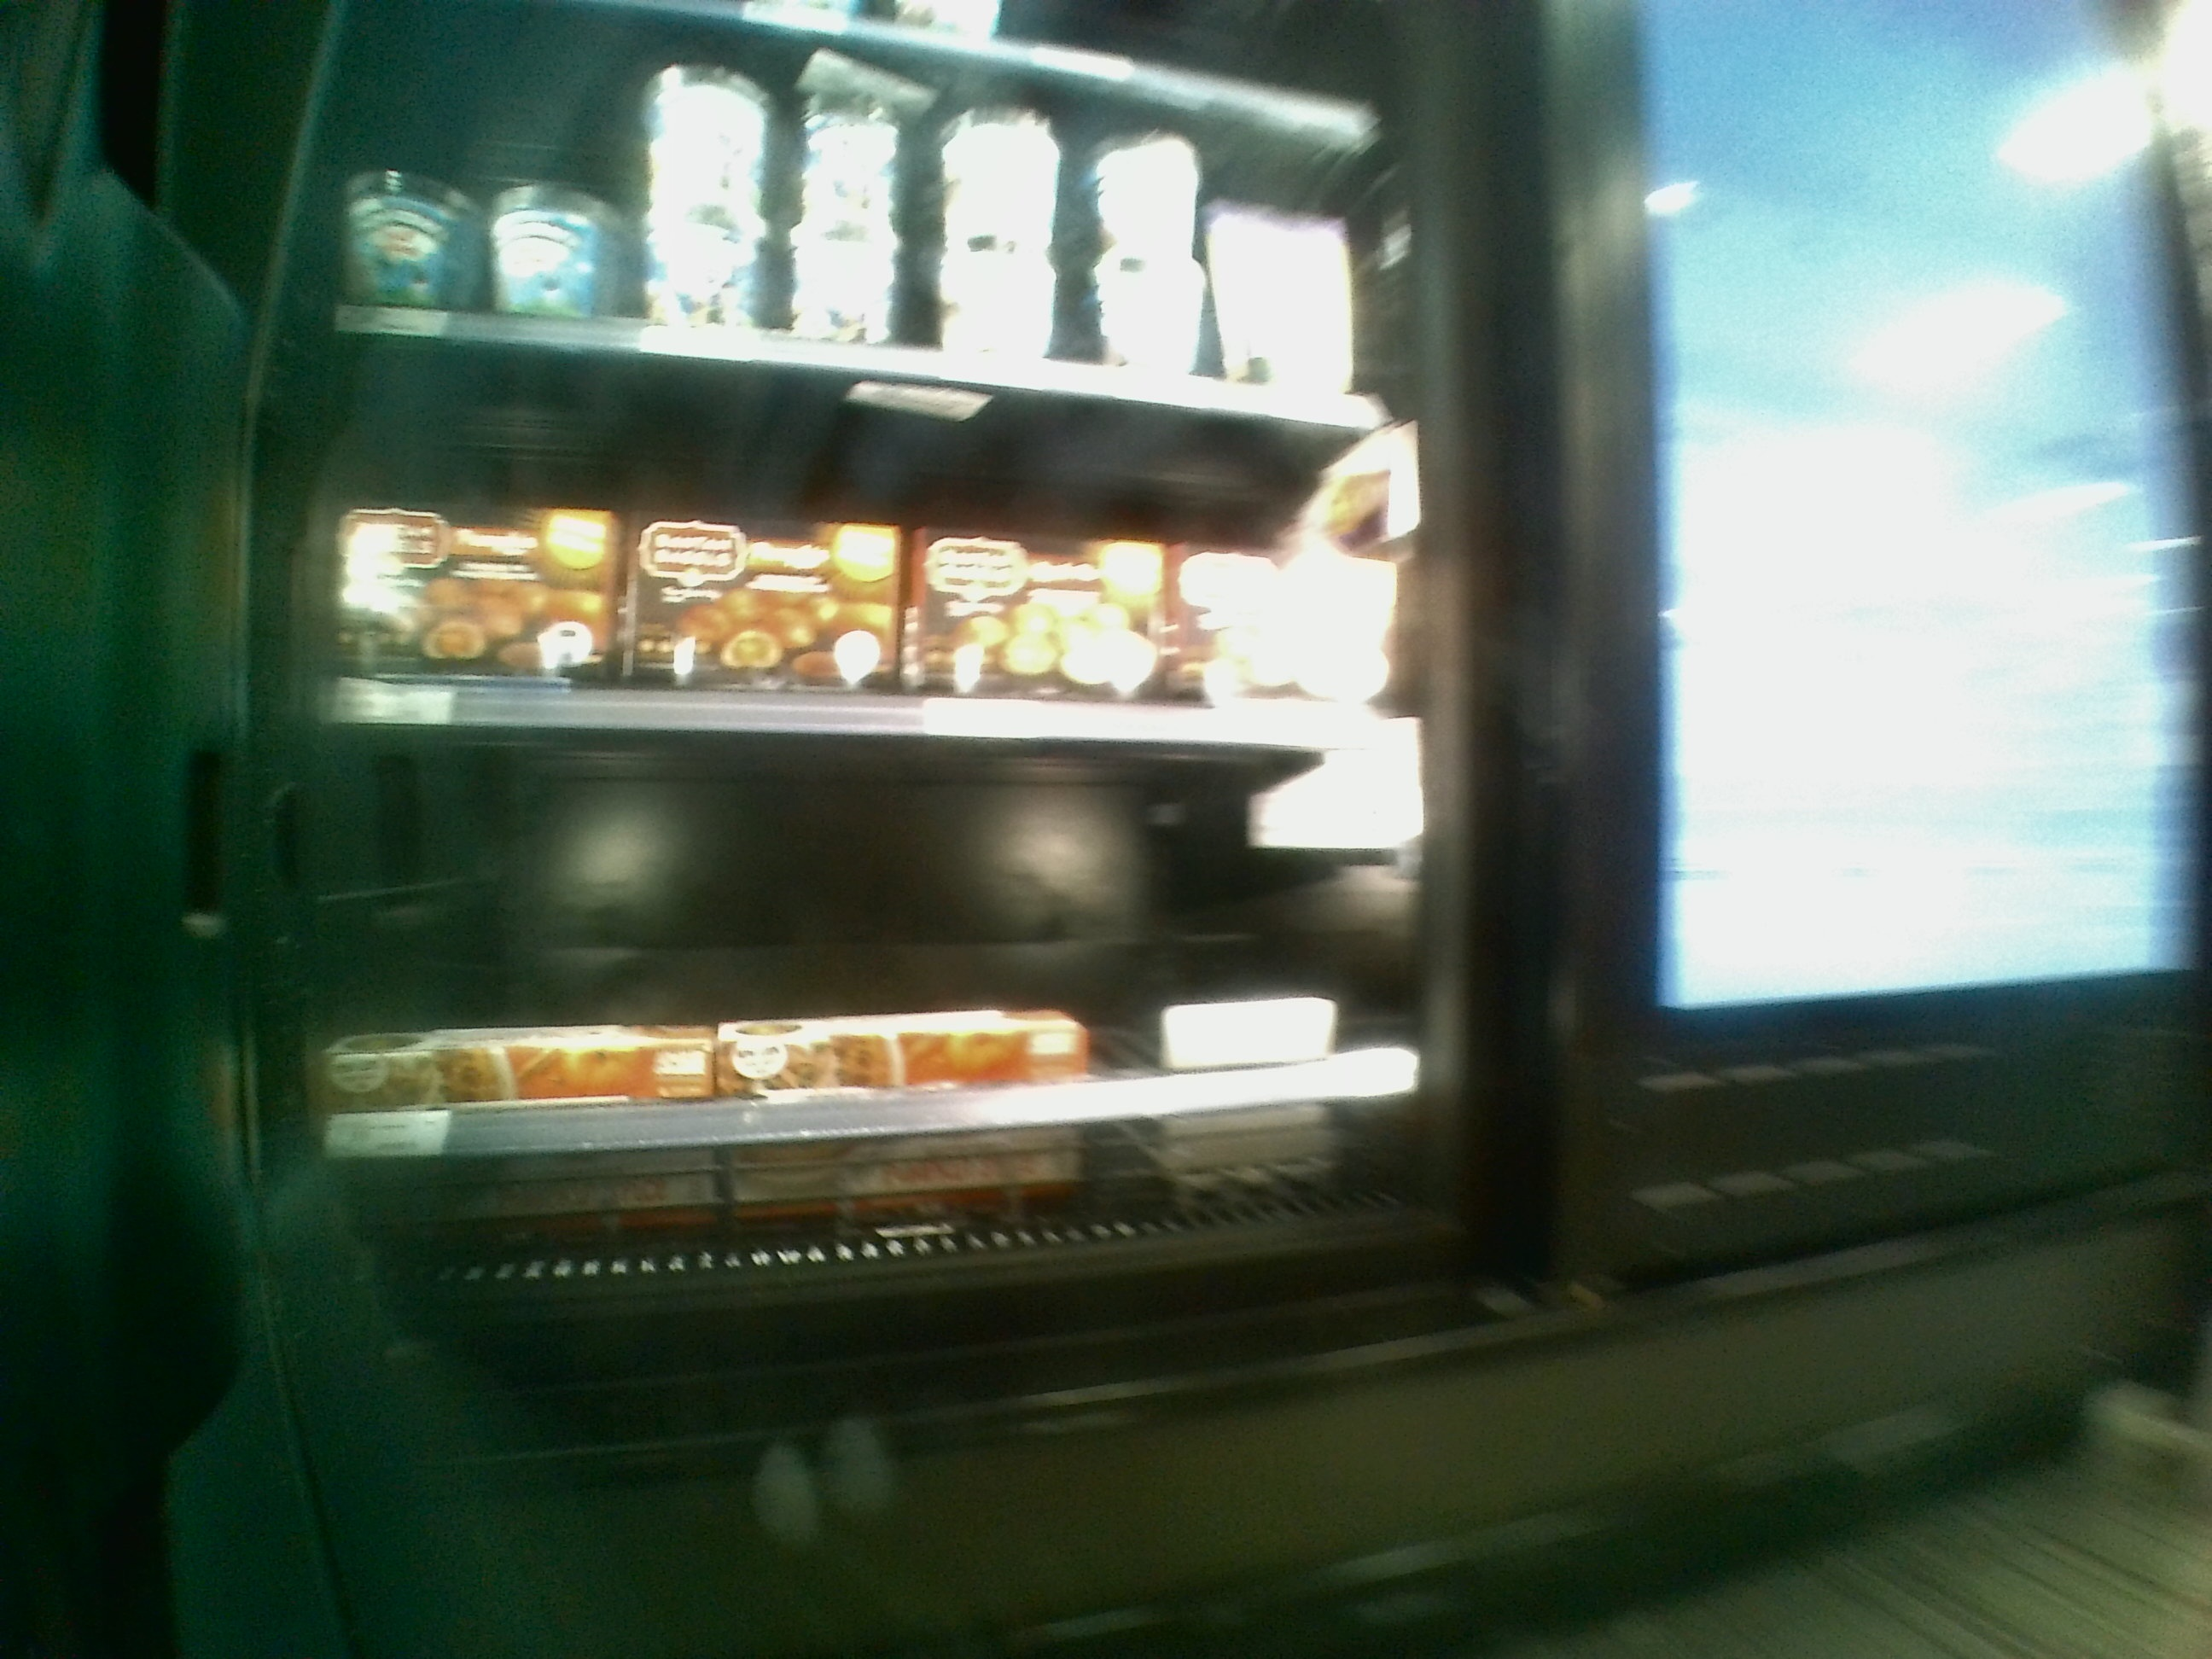shelf: (303, 319, 1421, 727), (301, 701, 1411, 1100)
